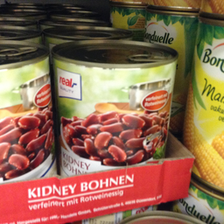beans: (52, 40, 178, 182), (2, 41, 52, 191)
